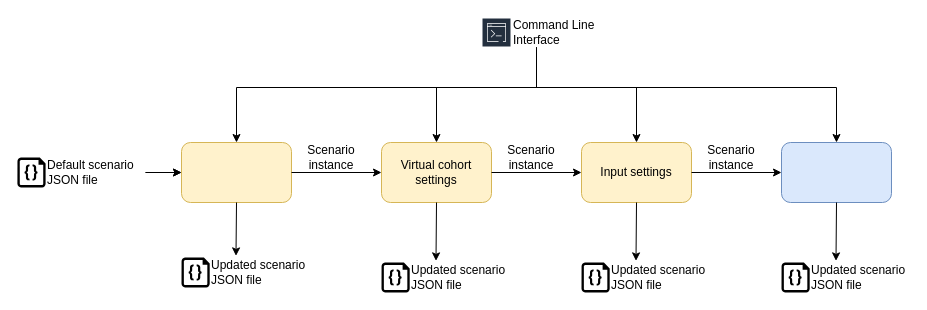
Image size: 927x310. Some labels were removed from this diagram. The centre of each missing label's shape, as x and y in pixels:
General settings: [236,172]
Simulator: [836,172]
